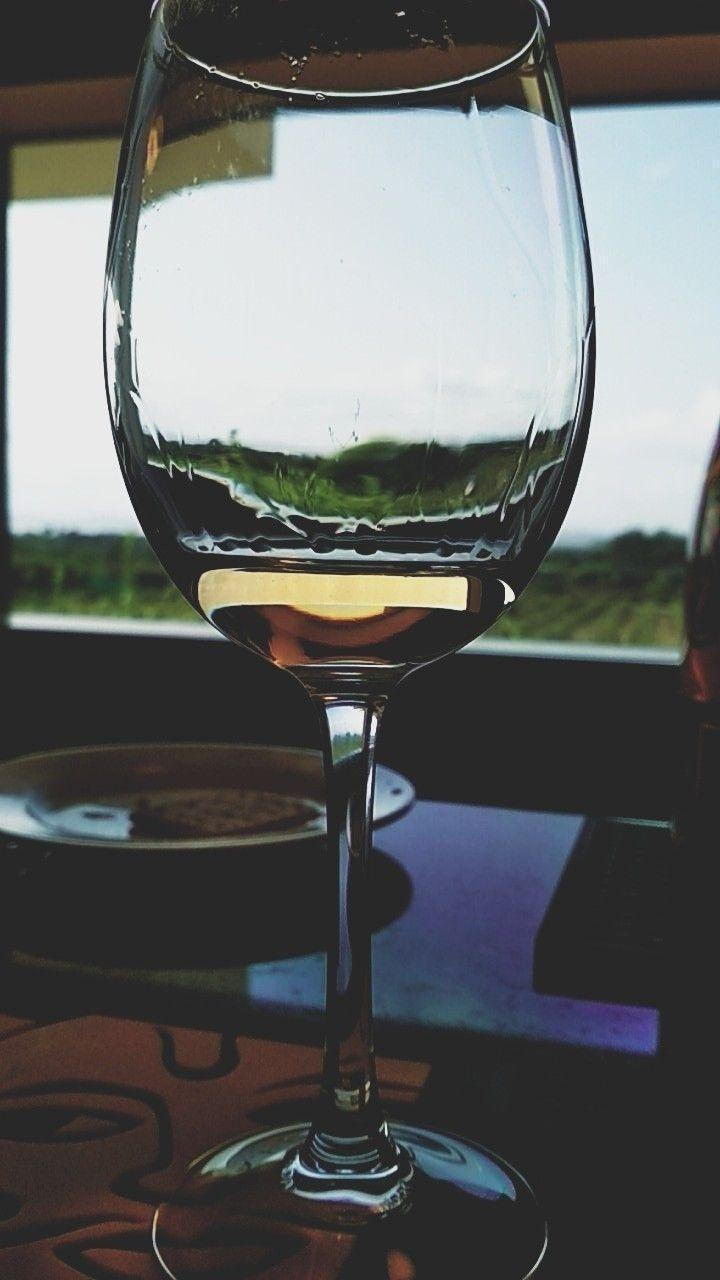glass-wine: (102, 0, 601, 1280)
